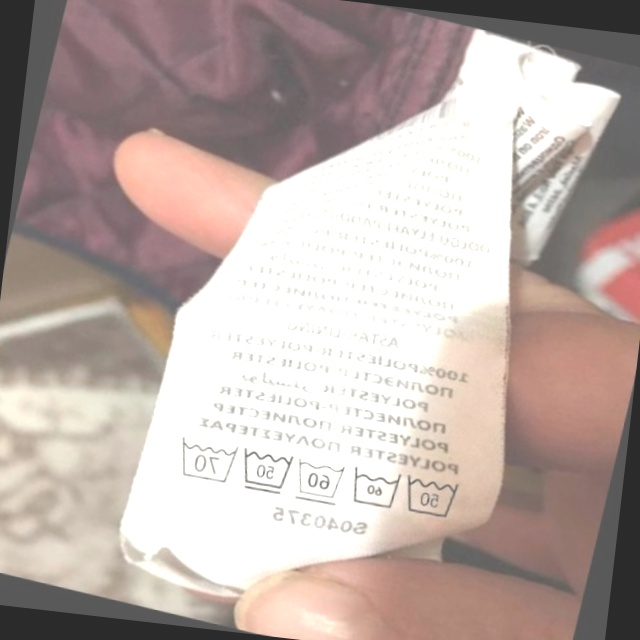50C: (394, 463, 468, 528), (231, 440, 298, 502)
60C: (285, 449, 350, 510), (341, 459, 406, 517)
70C: (166, 429, 241, 489)
